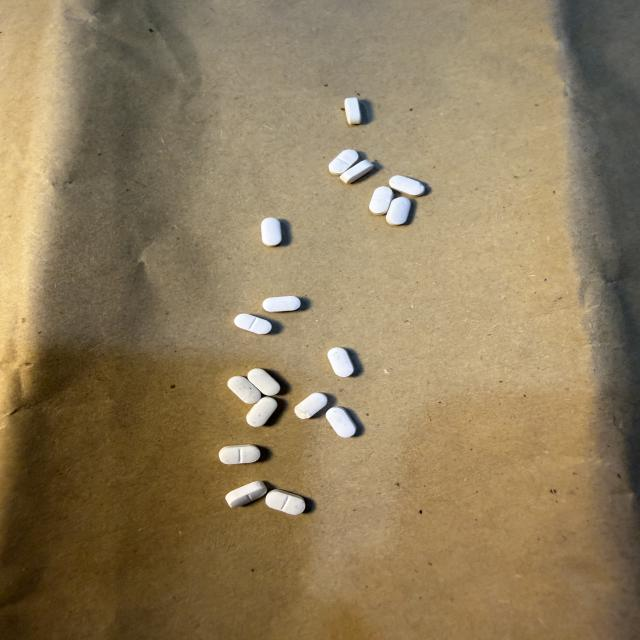pill: (226, 481, 267, 507), (266, 490, 305, 515), (247, 397, 277, 427), (326, 407, 356, 437), (228, 376, 260, 404), (248, 369, 280, 395), (295, 393, 327, 419), (219, 445, 260, 464), (340, 160, 373, 183), (328, 348, 354, 377), (234, 314, 271, 334), (329, 150, 358, 175), (389, 176, 425, 196), (369, 186, 393, 215), (386, 197, 410, 225), (263, 296, 300, 312), (261, 218, 281, 246), (344, 97, 362, 125)
